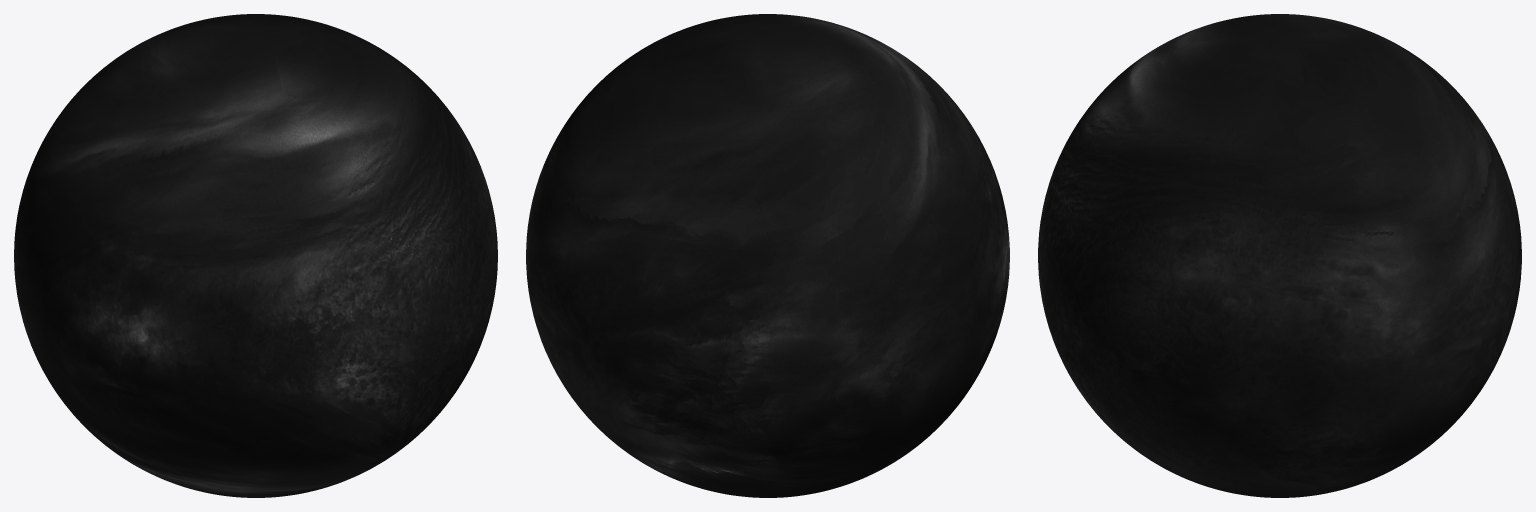
The model's file is planet.gltf.
3 views of the same model, side by side, from view 1: azimuth 30°, elevation 25°; view 2: azimuth 150°, elevation 25°; view 3: azimuth 270°, elevation 25° (orthographic).
Visible parts, largest first — view 1: Earth; view 2: Earth; view 3: Earth.
Part boxes in pixels (x1,y1,x2,y2): Earth: [14, 14, 497, 497]; Earth: [526, 14, 1009, 497]; Earth: [1038, 14, 1521, 497].
Bounding box in the file's own units: 200 × 200 × 200.
1 material, 1 textured.
